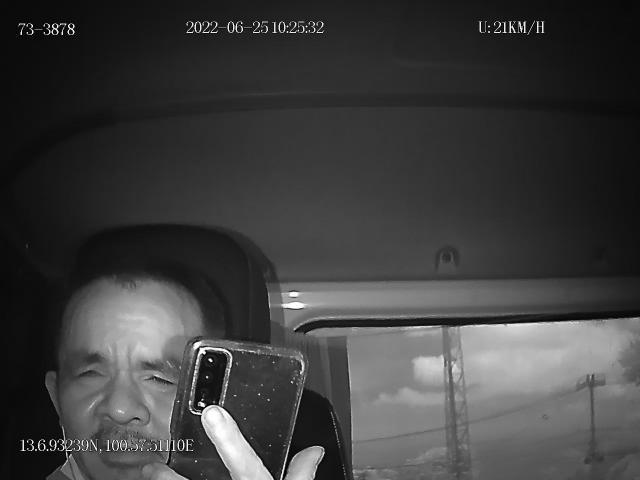PhoneUse: (168, 332, 308, 480)
SafeDriving: (66, 354, 112, 390)
